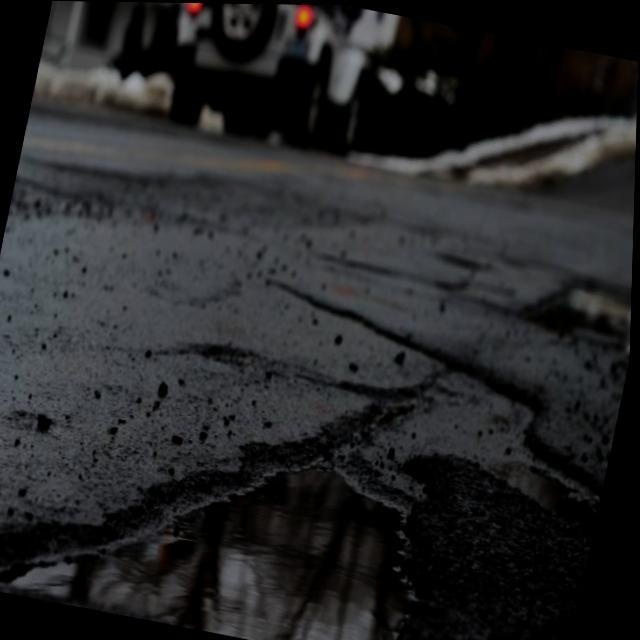pothole: (105, 397, 413, 639)
